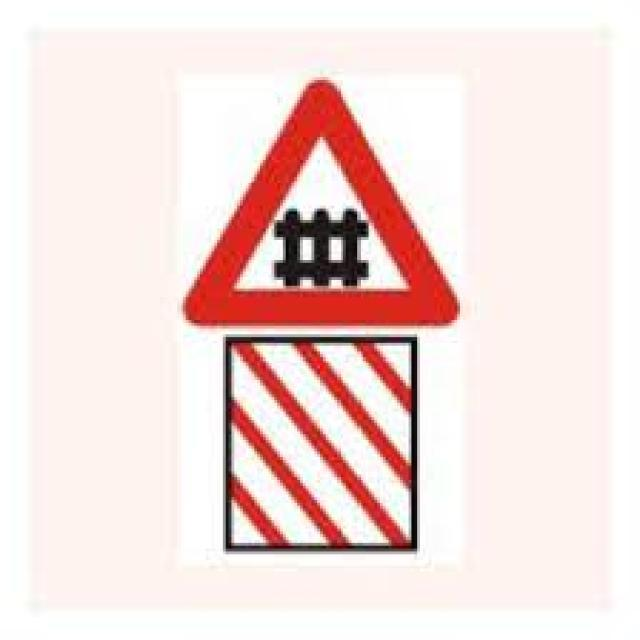guarded level crossing: (169, 63, 476, 331)
